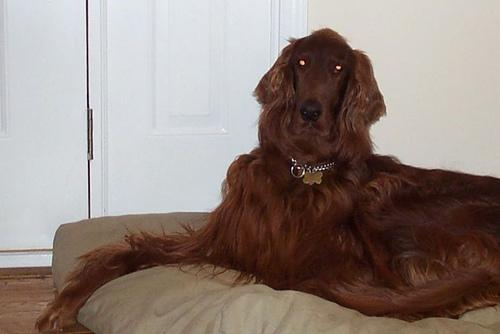Irish_setter: (35, 26, 498, 331)
